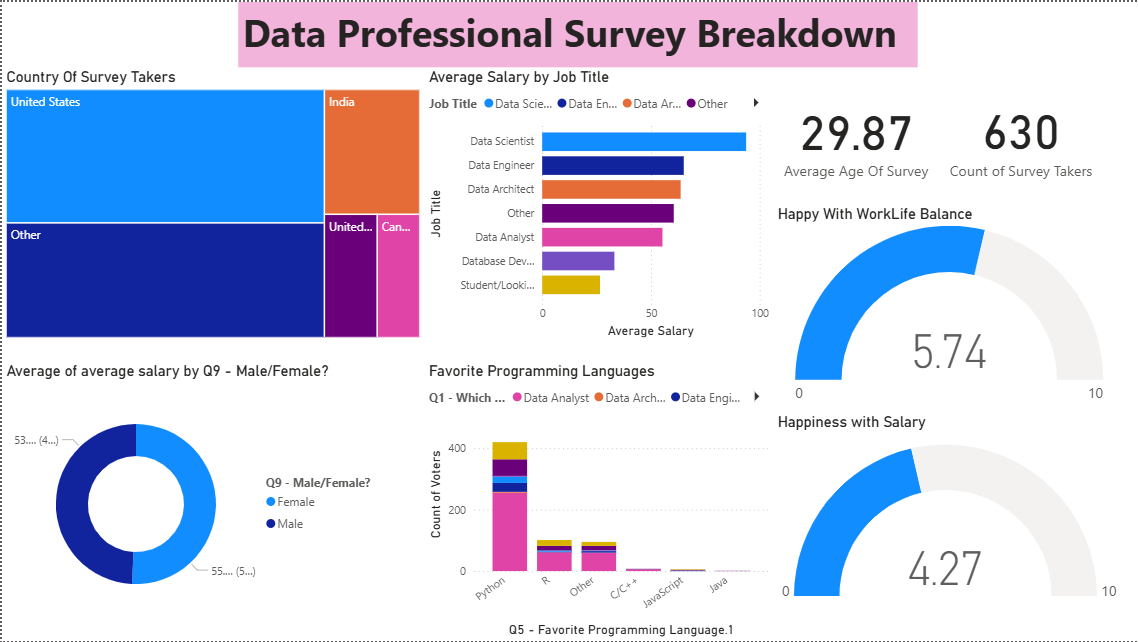

The dashboard page shown, as its layout file describes it:
{"tool":"powerbi","page":{"name":"Page 1","canvas":[1280,720],"ordinal":0},"visuals":[{"type":"textbox","box":[266.7,0,765.6,73.3],"z":0},{"type":"card","fields":{"Values":["Count(Data Professional Survey.Unique ID)"]},"box":[1055.7,72.9,184.3,155.7],"z":1000},{"type":"card","fields":{"Values":["Avg(Data Professional Survey.Q10 - Current Age)"]},"box":[868.6,74.3,187.1,154.3],"z":2000},{"type":"barChart","title":"Average Salary by Job Title","fields":{"Category":["Data Professional Survey.Q1 - Which Title Best Fits your Current Role?.1"],"Y":["Avg(Data Professional Survey.average salary)"],"Series":["Data Professional Survey.Q1 - Which Title Best Fits your Current Role?.1"]},"box":[475.7,74.3,392.9,308.6],"z":3000},{"type":"columnChart","title":"Favorite Programming Languages","fields":{"Category":["Data Professional Survey.Q5 - Favorite Programming Language.1"],"Y":["CountNonNull(Data Professional Survey.Unique ID)"],"Series":["Data Professional Survey.Q1 - Which Title Best Fits your Current Role?.1"]},"box":[475.7,405.7,392.9,314.3],"z":4000},{"type":"treemap","title":"Country Of Survey Takers","fields":{"Group":["Data Professional Survey.Q11 - Which Country do you live in?.1"],"Values":["CountNonNull(Data Professional Survey.Q11 - Which Country do you live in?.1)"]},"box":[0,74.3,475.7,308.6],"z":5000},{"type":"gauge","title":"Happiness with Salary","fields":{"Y":["Avg(Data Professional Survey.Q6 - How Happy are you in your Current Position with the following? (Salary))"],"MinValue":["Min(Data Professional Survey.Q6 - How Happy are you in your Current Position with the following? (Salary))1"],"MaxValue":["Max(Data Professional Survey.Q6 - How Happy are you in your Current Position with the following? (Salary))2"]},"box":[868.6,462.9,397.1,227.1],"z":6000},{"type":"gauge","title":" Happy With WorkLife Balance","fields":{"Y":["Avg(Data Professional Survey.Q6 - How Happy are you in your Current Position with the following? (Work/Life Balance))"],"MinValue":["Min(Data Professional Survey.Q6 - How Happy are you in your Current Position with the following? (Work/Life Balance))1"],"MaxValue":["Max(Data Professional Survey.Q6 - How Happy are you in your Current Position with the following? (Work/Life Balance))2"]},"box":[868.6,228.6,397.1,234.3],"z":7000},{"type":"donutChart","fields":{"Category":["Data Professional Survey.Q9 - Male/Female?"],"Y":["Avg(Data Professional Survey.average salary)"]},"box":[0,405.7,437.1,301.4],"z":8000}]}

Visuals, with their boxes in screenshot pixels (x1, y1, x2, y2), scaled from the page's 1280x720 canvas onto the 1138x642 screenshot:
textbox: region(237, 0, 918, 65)
card - Count(Data Professional Survey.Unique ID): region(939, 65, 1102, 204)
card - Avg(Data Professional Survey.Q10 - Current Age): region(772, 66, 939, 204)
"Average Salary by Job Title" barChart: region(423, 66, 772, 341)
"Favorite Programming Languages" columnChart: region(423, 362, 772, 641)
"Country Of Survey Takers" treemap: region(0, 66, 423, 341)
"Happiness with Salary" gauge: region(772, 413, 1125, 615)
" Happy With WorkLife Balance" gauge: region(772, 204, 1125, 413)
donutChart - Data Professional Survey.Q9 - Male/Female? x Avg(Data Professional Survey.average salary): region(0, 362, 389, 630)
